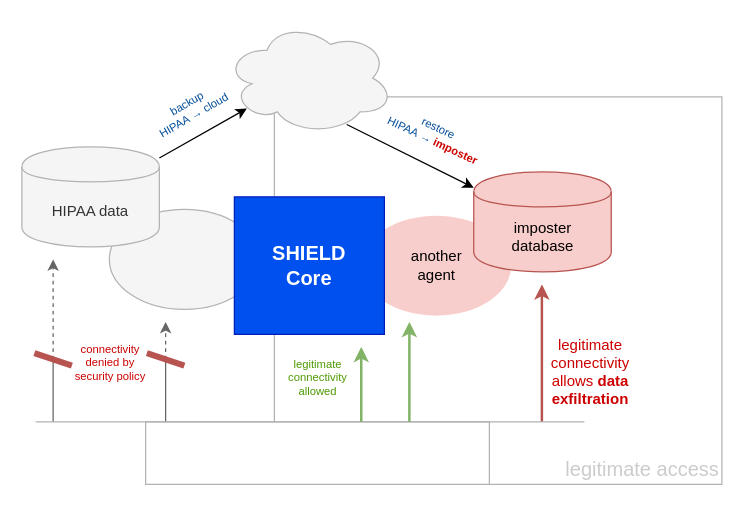
Some shapes in this 744 by 506 pixel diagram are drawn without their labels. Here are the shapes that lost their labels. From the top down, the centre of each, then its label:
the point at 309,77: Coud Storage
the point at 183,258: "private" agent
the point at 316,452: Malicious Tenant Actor
